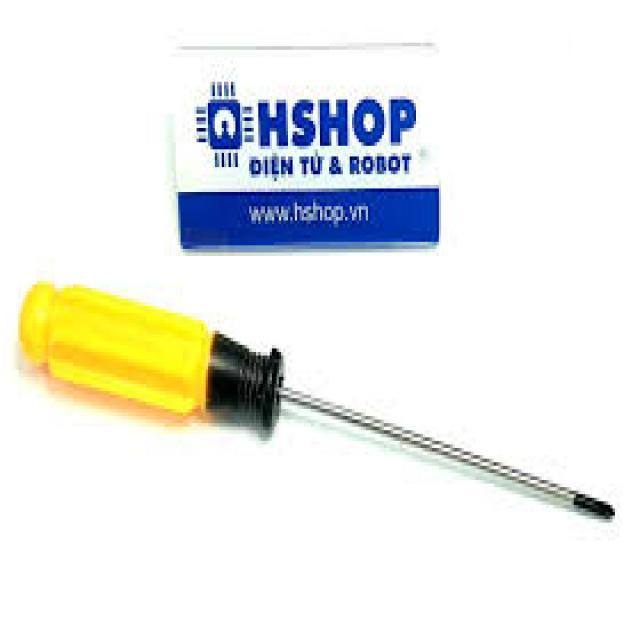screwdriver: (17, 280, 618, 526)
